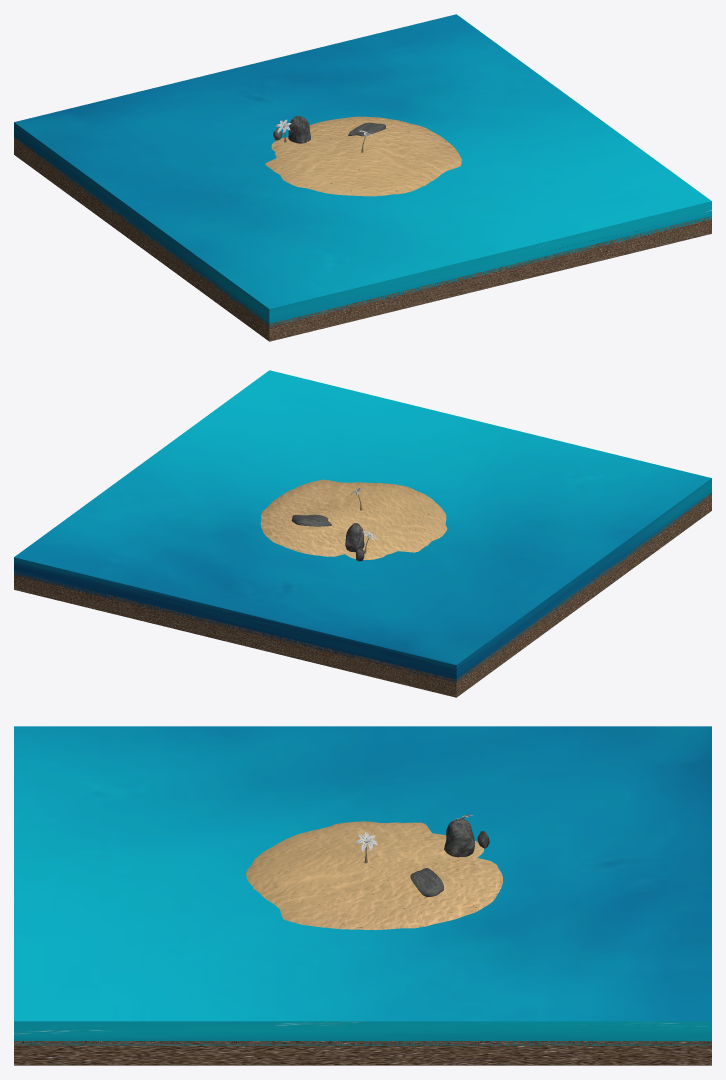
Rendered from playa.obj.
The picture shows the model from 3 angles, top to bottom: view 1: azimuth 30°, elevation 25°; view 2: azimuth 150°, elevation 25°; view 3: azimuth 270°, elevation 25°; orthographic projection. The views are drawn at different scales.
Visible parts, largest first — view 1: pasted__pCube1 pasted__palmera2 mar, pasted__pCube1 arena_sub, ground_hight, polySurface3 roca:Mesh; view 2: pasted__pCube1 pasted__palmera2 mar, pasted__pCube1 arena_sub, ground_hight; view 3: pasted__pCube1 pasted__palmera2 mar, ground_hight, pasted__pCube1 arena_sub, polySurface3 roca:Mesh, Box004.
Boxes of the visible parts, <box> form: pasted__pCube1 pasted__palmera2 mar: <box>14,14,711,326</box>; pasted__pCube1 arena_sub: <box>14,137,711,341</box>; ground_hight: <box>265,116,461,196</box>; polySurface3 roca:Mesh: <box>288,116,310,143</box>; pasted__pCube1 pasted__palmera2 mar: <box>14,370,711,682</box>; pasted__pCube1 arena_sub: <box>14,493,711,697</box>; ground_hight: <box>260,479,447,559</box>; pasted__pCube1 pasted__palmera2 mar: <box>14,726,711,1045</box>; ground_hight: <box>246,821,502,929</box>; pasted__pCube1 arena_sub: <box>14,1041,711,1065</box>; polySurface3 roca:Mesh: <box>444,819,474,857</box>; Box004: <box>410,868,443,896</box>.
Bounding box in the file's own units: 850 × 114 × 850.
